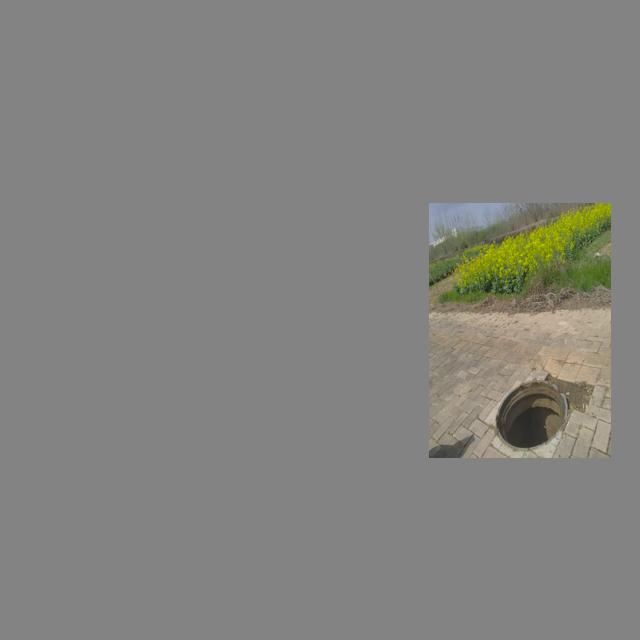lose: (487, 369, 579, 455)
